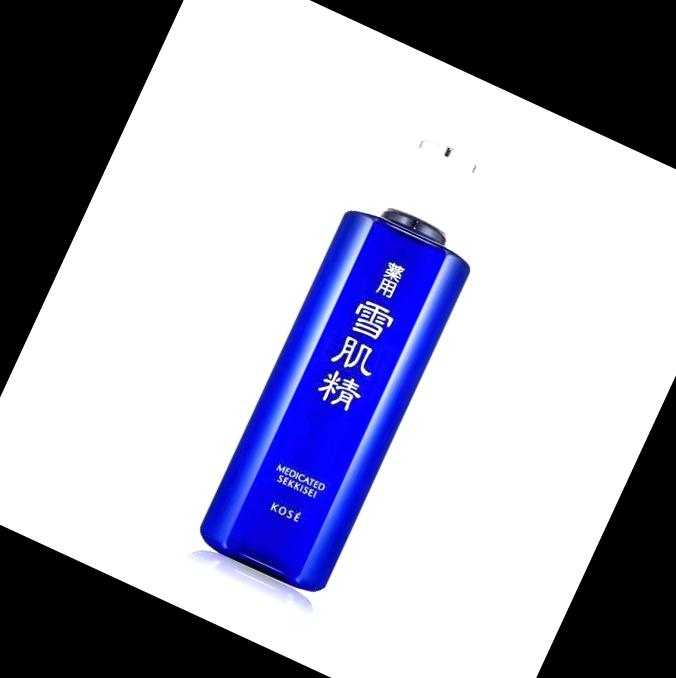cosmetic: (190, 121, 519, 603)
